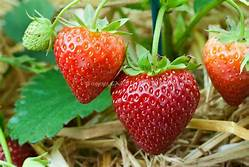Fresa: (108, 56, 205, 158), (51, 18, 130, 107), (201, 28, 249, 113)
